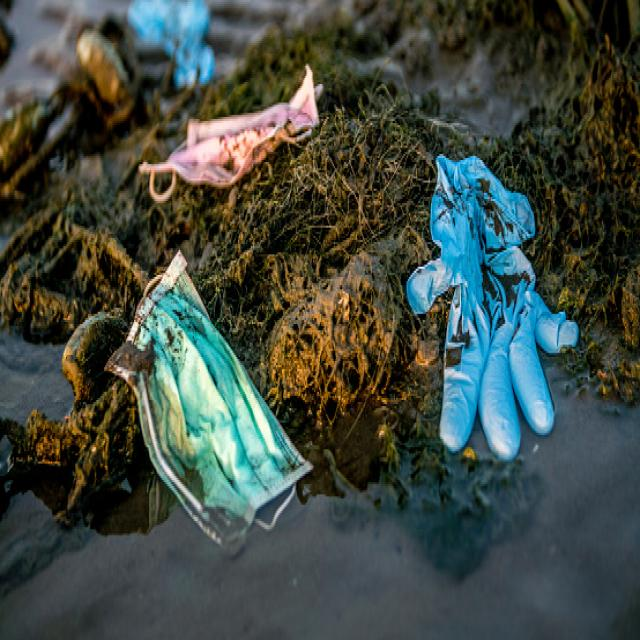non-organic waste: (106, 248, 314, 550), (140, 66, 326, 209)
